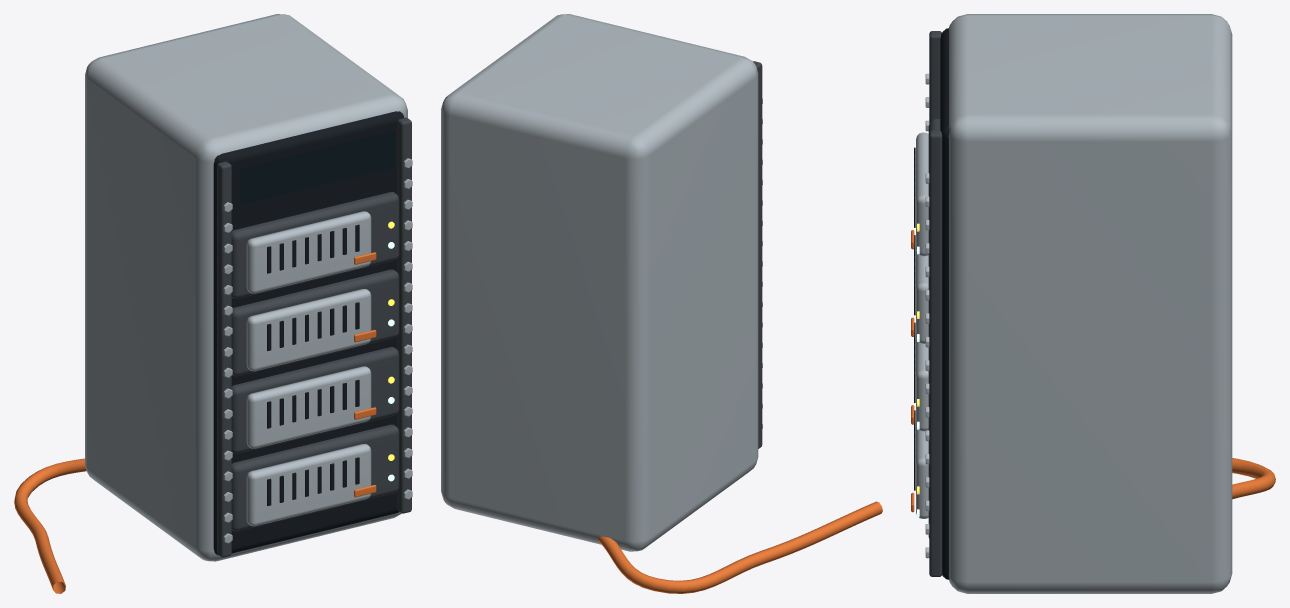
The model's file is server.glb.
3 renders of one model, left to right at view 1: azimuth 30°, elevation 25°; view 2: azimuth 150°, elevation 25°; view 3: azimuth 270°, elevation 25°, orthographic. The views are drawn at different scales.
Visible parts, largest first — view 1: Static / Satin titanium.002, Static / Graphite ceramic.002, Static / Recessed black rubber.002, LABEL_server, Static / Burnt orange enamel.002; view 2: Static / Satin titanium.002, Static / Burnt orange enamel.002, Static / Graphite ceramic.002; view 3: Static / Satin titanium.002, Static / Graphite ceramic.002, Static / Recessed black rubber.002, Static / Burnt orange enamel.002.
Part boxes in pixels (bbox=[...]): Static / Satin titanium.002: bbox=[85, 14, 412, 561]; Static / Graphite ceramic.002: bbox=[217, 117, 411, 557]; Static / Recessed black rubber.002: bbox=[213, 111, 404, 555]; LABEL_server: bbox=[239, 130, 395, 205]; Static / Burnt orange enamel.002: bbox=[14, 252, 376, 593]; Static / Satin titanium.002: bbox=[441, 14, 762, 551]; Static / Burnt orange enamel.002: bbox=[597, 501, 882, 593]; Static / Graphite ceramic.002: bbox=[753, 61, 762, 448]; Static / Satin titanium.002: bbox=[916, 14, 1232, 593]; Static / Graphite ceramic.002: bbox=[928, 31, 942, 576]; Static / Recessed black rubber.002: bbox=[914, 28, 949, 579]; Static / Burnt orange enamel.002: bbox=[911, 230, 1275, 512].
Size of the model in its own units: 4.11 by 4.99 by 3.32.
